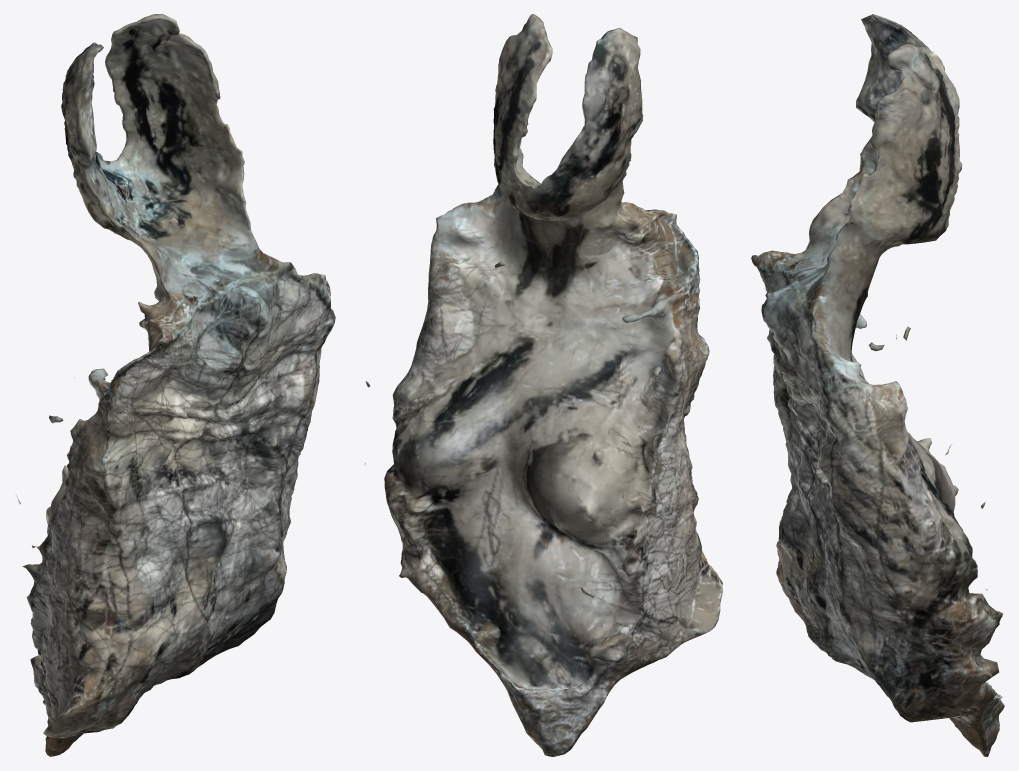
Rendered from FA-005-AVIF.glb.
The picture shows the model from 3 angles, left to right: view 1: azimuth 30°, elevation 25°; view 2: azimuth 150°, elevation 25°; view 3: azimuth 270°, elevation 25°; orthographic projection. The views are drawn at different scales.
Parts seen in each view (by area): view 1: 3DModel; view 2: 3DModel; view 3: 3DModel.
Boxes of the visible parts, left/top/right/bottom form: 3DModel: left=16, top=14, right=335, bottom=756; 3DModel: left=364, top=14, right=722, bottom=756; 3DModel: left=751, top=14, right=1004, bottom=756.
Bounding box in the file's own units: 0.2986 × 0.7241 × 0.2257.
1 material, 1 textured.
